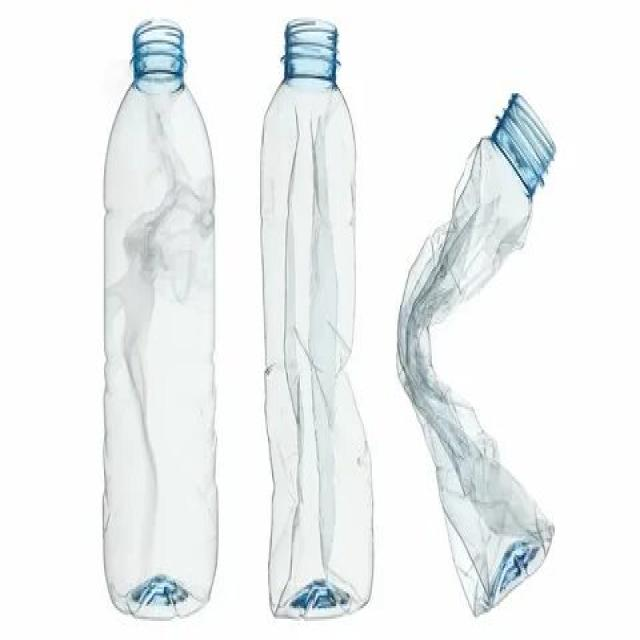blue: (394, 90, 558, 620), (258, 20, 374, 622), (104, 18, 216, 621)
